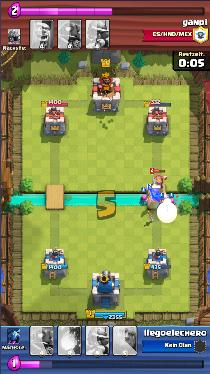ally_archer: (138, 194, 149, 206), (168, 197, 177, 209)
ally_knight: (146, 186, 164, 202)
enemy_knight: (150, 174, 167, 188)
